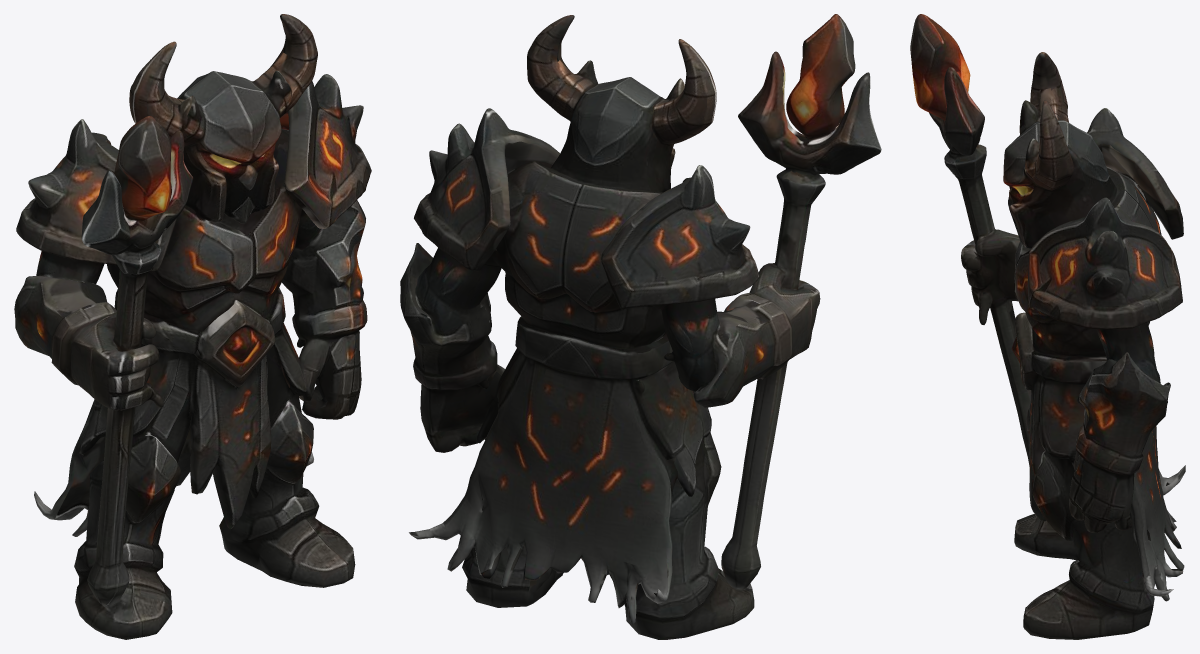
File: cehennem_sovalyesi.glb
The picture shows the model from 3 angles, left to right: view 1: azimuth 30°, elevation 25°; view 2: azimuth 150°, elevation 25°; view 3: azimuth 270°, elevation 25°; orthographic projection. The views are drawn at different scales.
Visible parts, largest first — view 1: Hell Knight; view 2: Hell Knight; view 3: Hell Knight.
Boxes of the visible parts, bbox=[...] form: Hell Knight: bbox=[14, 14, 371, 639]; Hell Knight: bbox=[400, 14, 881, 639]; Hell Knight: bbox=[910, 14, 1185, 639].
Bounding box in the file's own units: 1.4 × 2 × 0.9789.
Materials: 1 (1 with a texture image).
